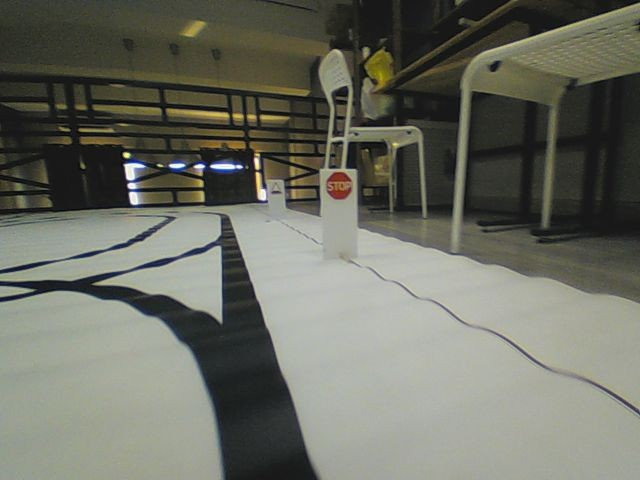Stop: (325, 170, 353, 201)
